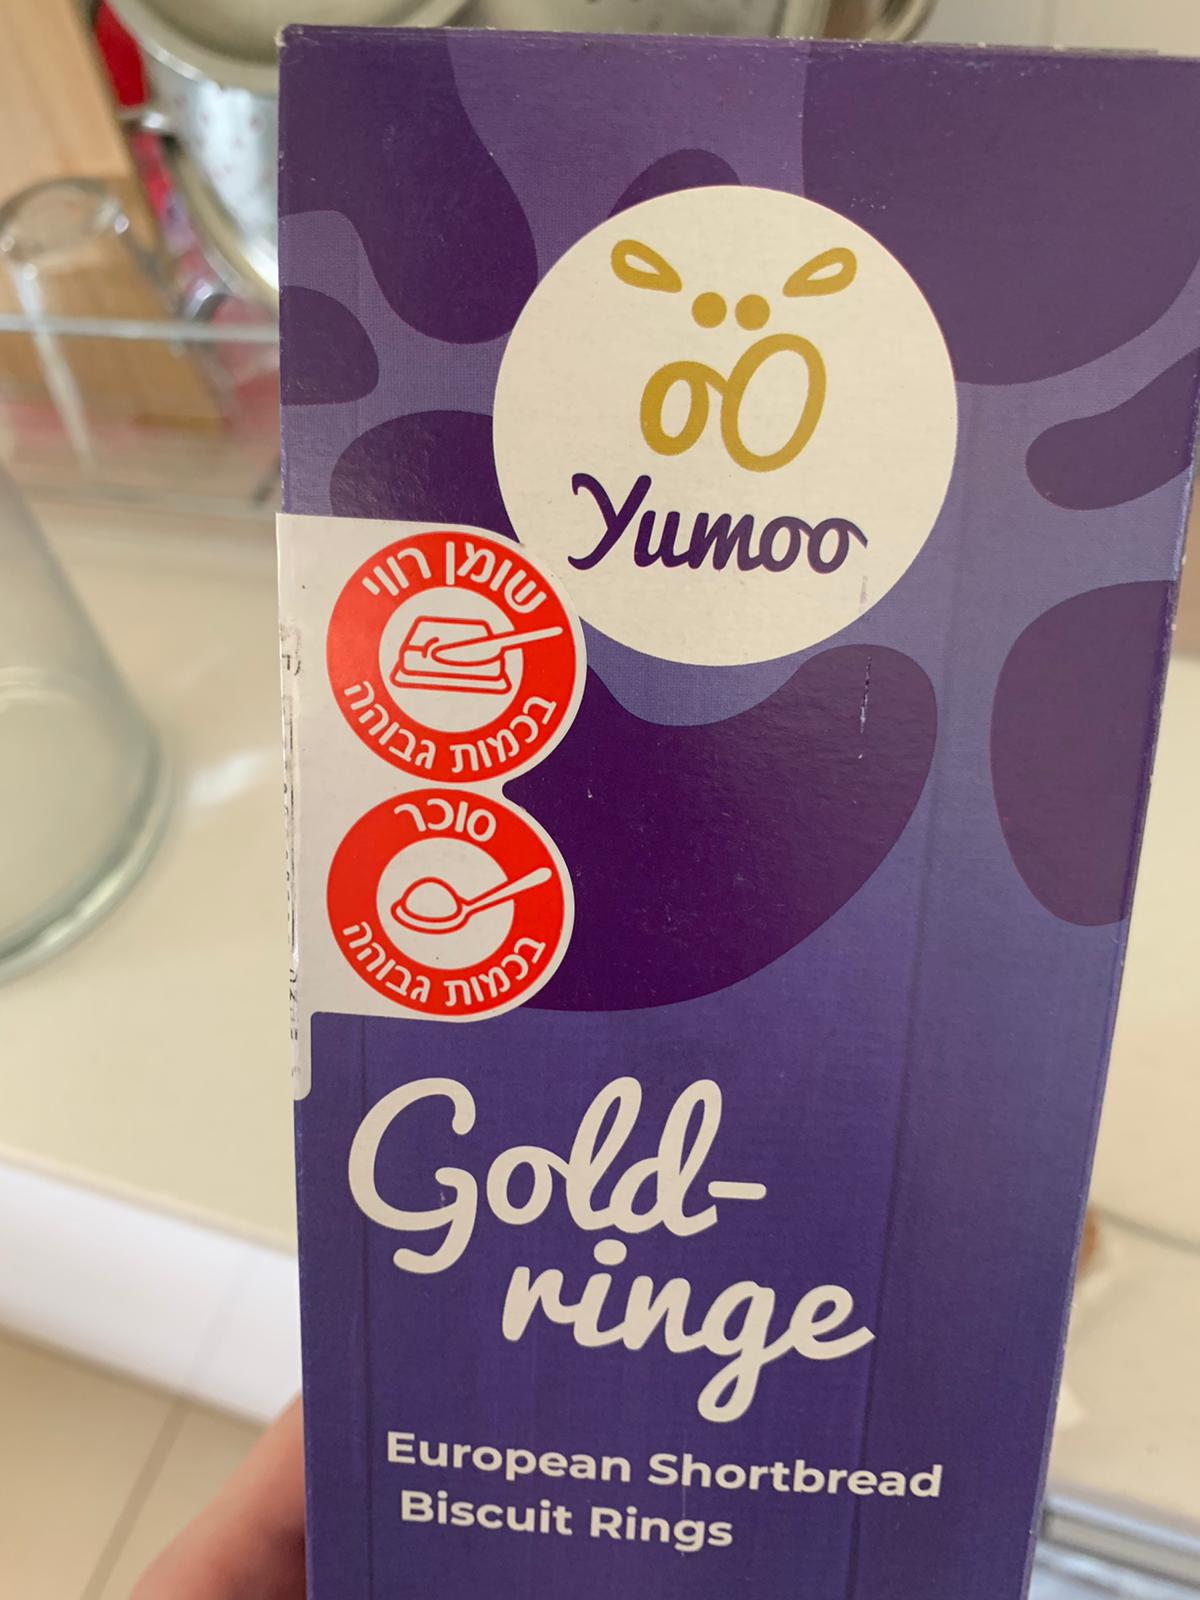fat: (324, 523, 589, 787)
sugar: (324, 792, 577, 1018)
